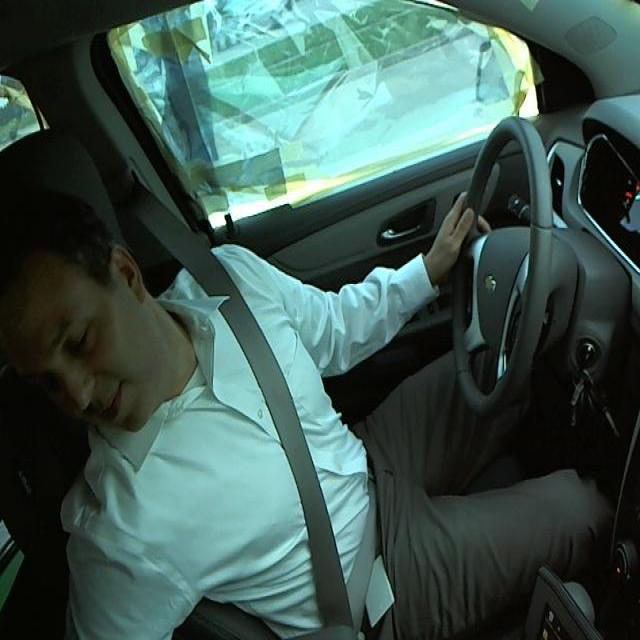seatbelt: (144, 228, 382, 628)
